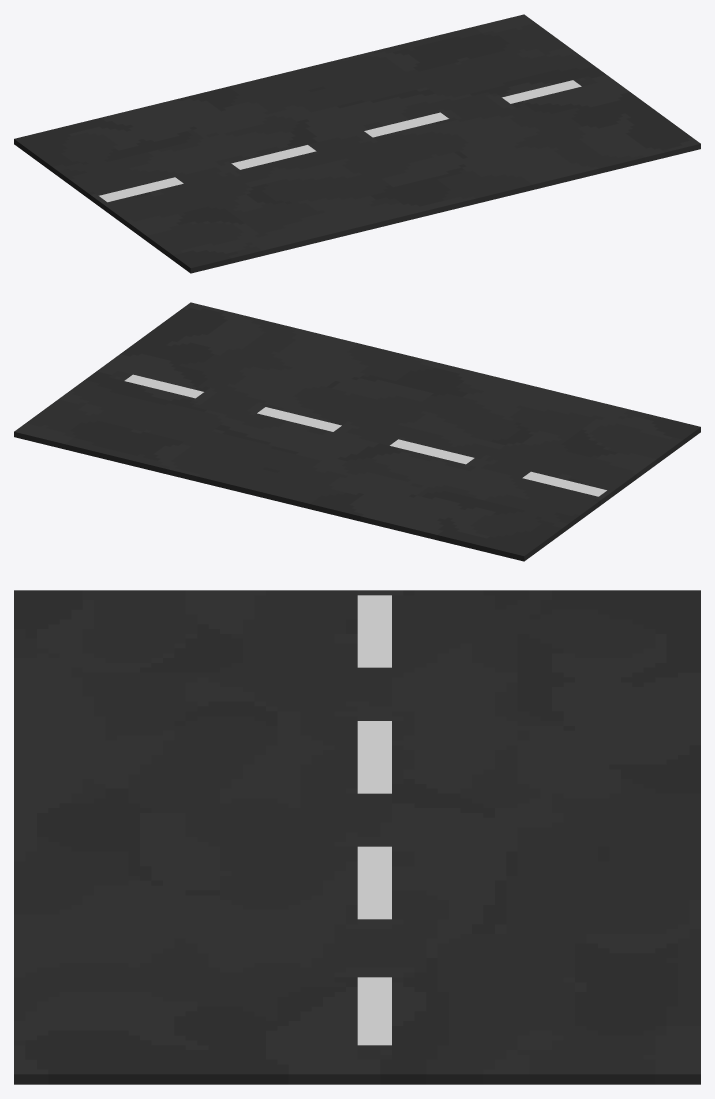
Rendered from Road.obj.
The picture shows the model from 3 angles, top to bottom: view 1: azimuth 30°, elevation 25°; view 2: azimuth 150°, elevation 25°; view 3: azimuth 270°, elevation 25°; orthographic projection. The views are drawn at different scales.
Bounding box in the file's own units: 10 × 0.1 × 6.
Materials: 1 (1 with a texture image).
